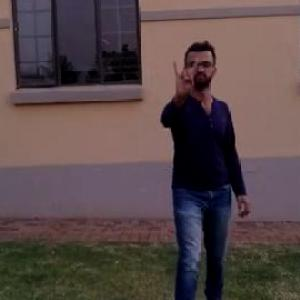takeoff-hand: (166, 51, 204, 100)
